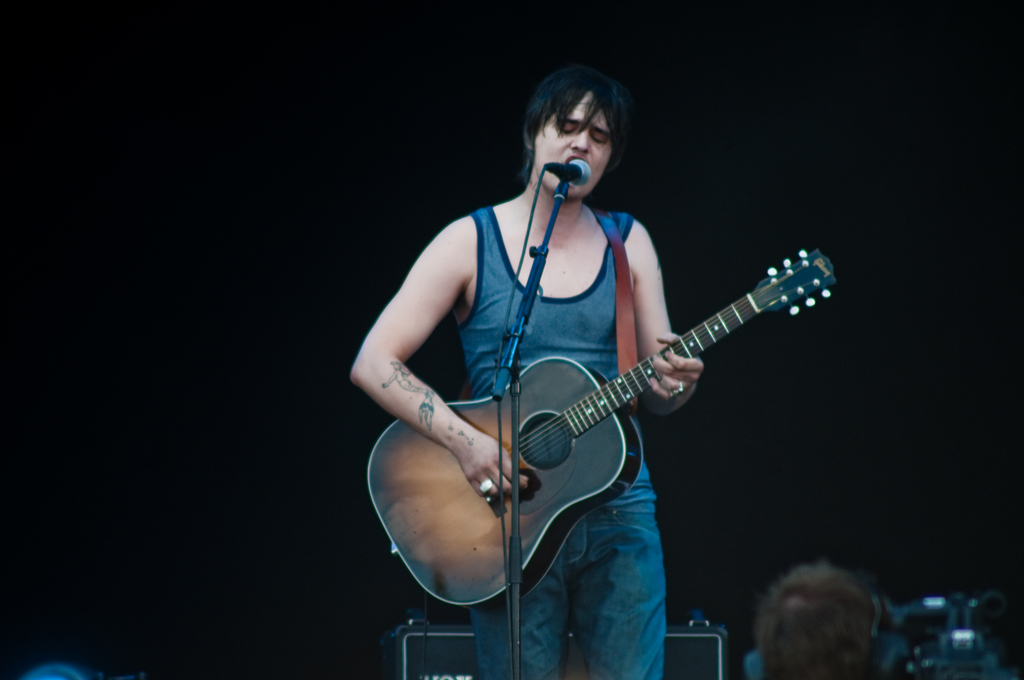Human-face: (535, 83, 611, 197)
